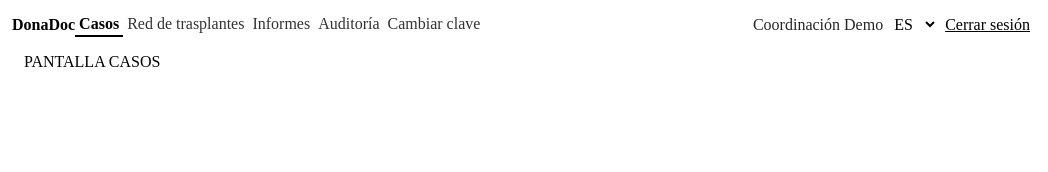
Test: guardias de ruta › el enlace de informes navega a la lista de informes
Step 1. Click the button "Informes" → (281, 24), box x1=248 y1=12 x2=314 y2=36
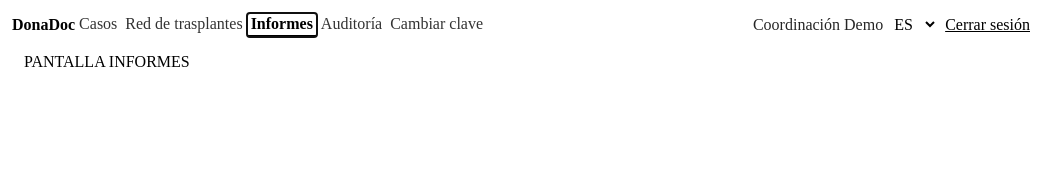
Check: the text "PANTALLA INFORMES" is shown, box x1=24 y1=53 x2=190 y2=70
